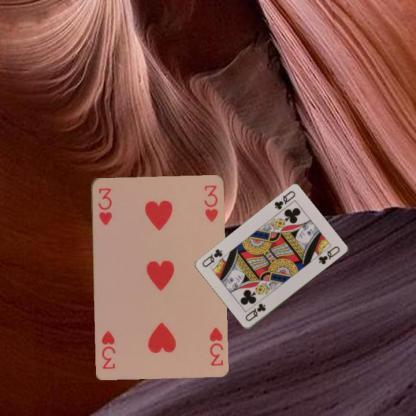3h: (95, 184, 113, 226), (206, 325, 224, 367)
Qc: (272, 188, 296, 211), (243, 300, 268, 322)
